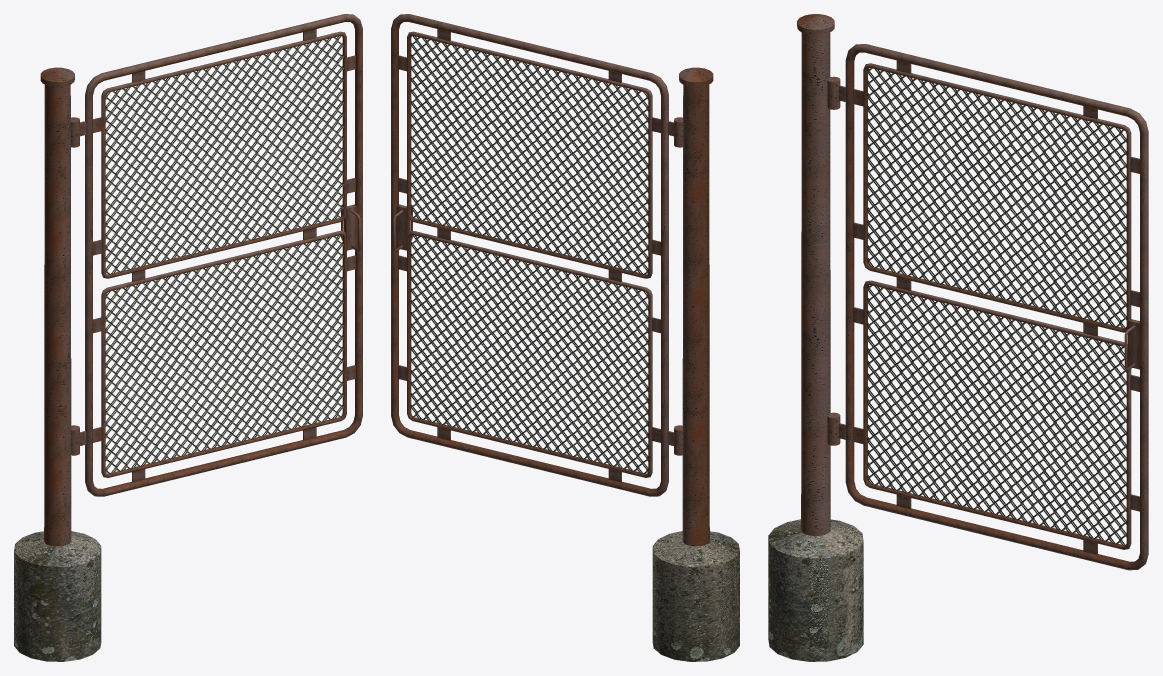
Rendered from WiredFenceWicket.FBX.
3 views of the same model, side by side, from view 1: azimuth 30°, elevation 25°; view 2: azimuth 150°, elevation 25°; view 3: azimuth 330°, elevation 25° (orthographic). The views are drawn at different scales.
Parts seen in each view (by area): view 1: WiredFenceWicketDoor, WiredFenceWicketPole; view 2: WiredFenceWicketDoor, WiredFenceWicketPole; view 3: WiredFenceWicketDoor, WiredFenceWicketPole.
Part boxes in pixels (x1=…): WiredFenceWicketDoor: x1=80, y1=14, x2=362, y2=496; WiredFenceWicketPole: x1=14, y1=67, x2=101, y2=661; WiredFenceWicketDoor: x1=391, y1=14, x2=673, y2=496; WiredFenceWicketPole: x1=652, y1=67, x2=739, y2=661; WiredFenceWicketDoor: x1=838, y1=44, x2=1148, y2=570; WiredFenceWicketPole: x1=768, y1=14, x2=863, y2=661.
Bounding box in the file's own units: 22.29 × 35.62 × 4.97.
